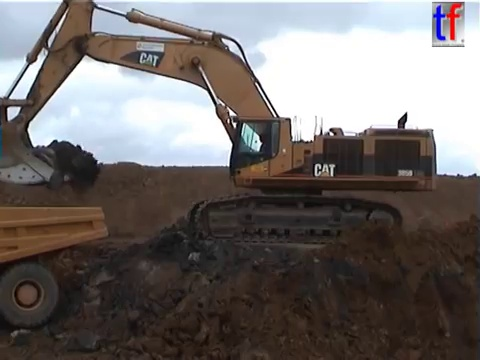excavator: (1, 1, 440, 251)
truck: (1, 201, 109, 328)
